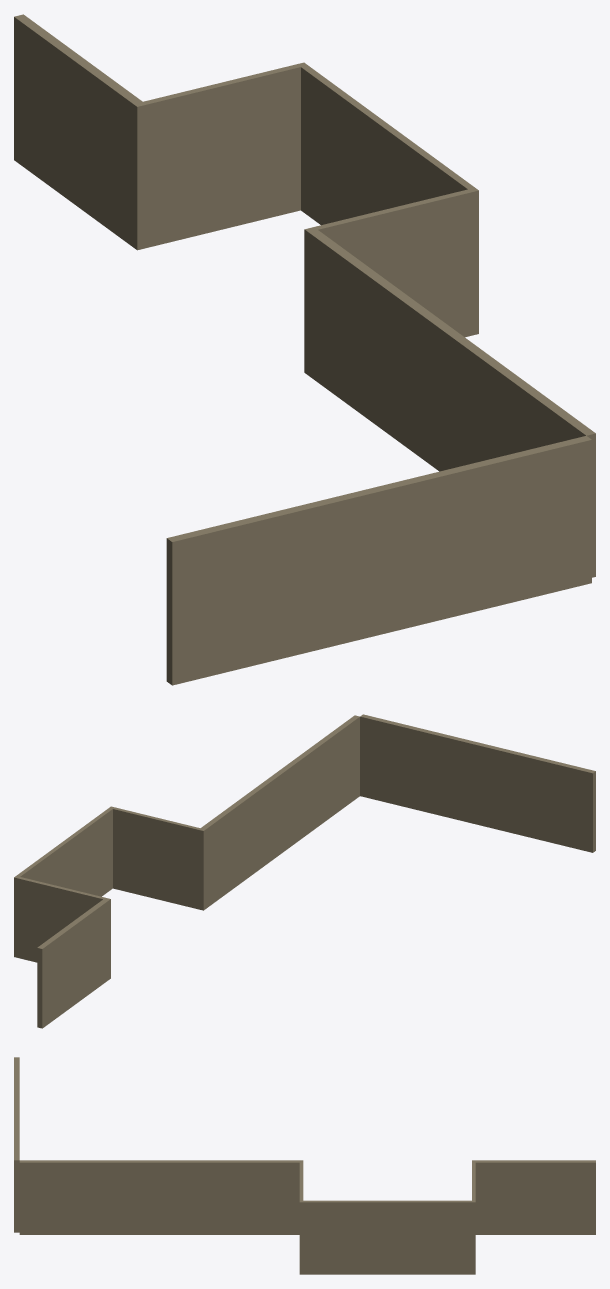
Rendered from _wall2.fbx.
3 renders of one model, top to bottom at view 1: azimuth 30°, elevation 25°; view 2: azimuth 150°, elevation 25°; view 3: azimuth 270°, elevation 25°, orthographic. The views are drawn at different scales.
Parts seen in each view (by area): view 1: wall; view 2: wall; view 3: wall.
Boxes of the visible parts, bbox=[...] form: wall: bbox=[14, 14, 595, 685]; wall: bbox=[14, 714, 595, 1028]; wall: bbox=[14, 1057, 595, 1274].
Size of the model in its own units: 4029 by 935 by 6831.
